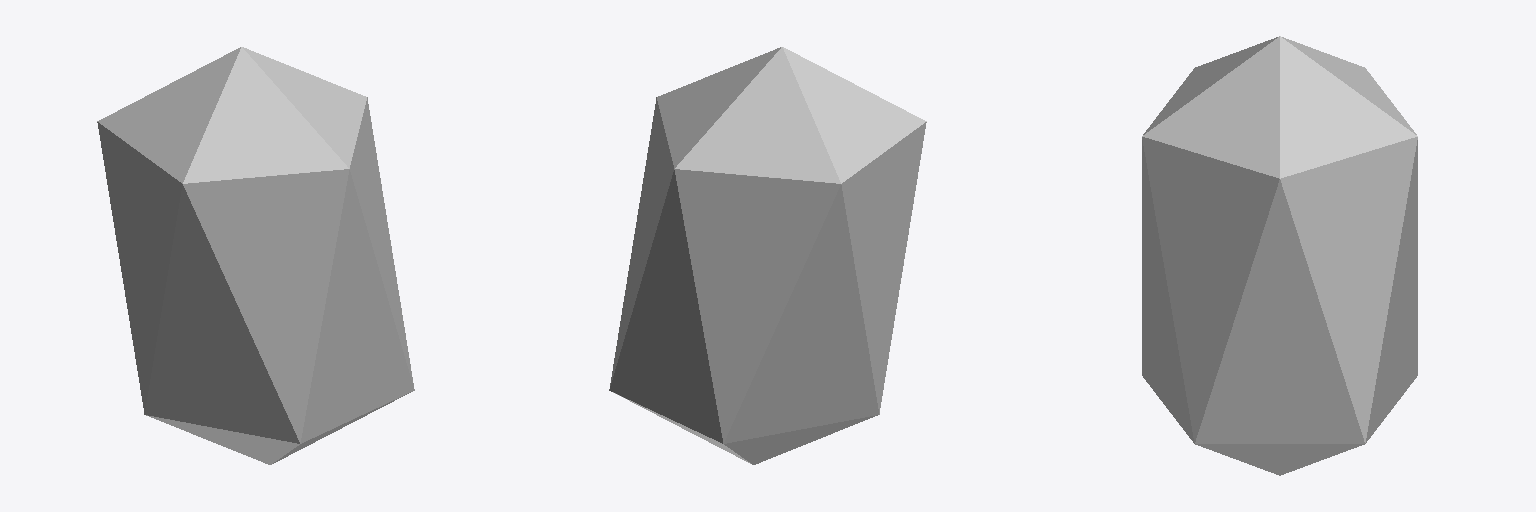
The model's file is crystal2.obj.
3 renders of one model, left to right at view 1: azimuth 30°, elevation 25°; view 2: azimuth 150°, elevation 25°; view 3: azimuth 270°, elevation 25°, orthographic.
Parts seen in each view (by area): view 1: Icosphere; view 2: Icosphere; view 3: Icosphere.
Boxes of the visible parts, box(x1,y1,x2,y2) form: Icosphere: box(97, 47, 414, 464); Icosphere: box(609, 47, 926, 464); Icosphere: box(1142, 36, 1417, 475).
Size of the model in its own units: 0.8253 by 1.45 by 0.8506.